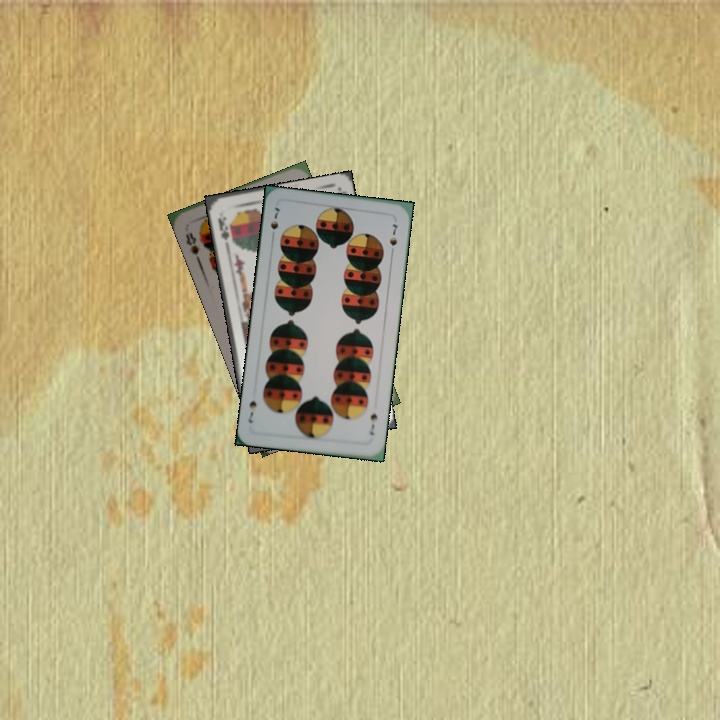S7: (266, 203, 282, 242), (366, 408, 380, 438)
S8: (181, 229, 202, 262)
SK: (214, 213, 236, 246)
